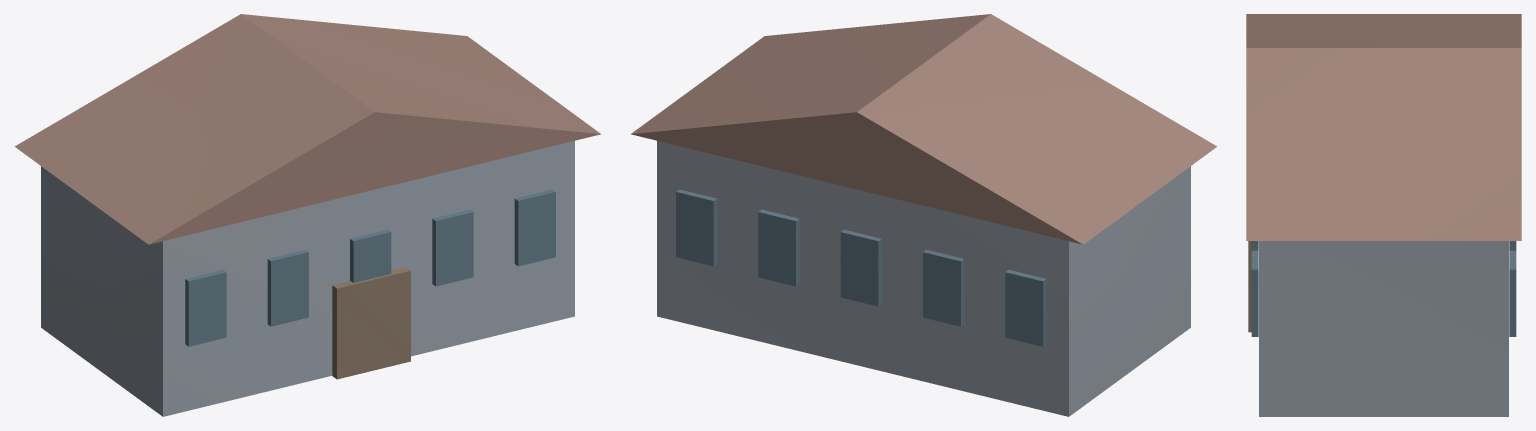
Rendered from greenhouse-03.glb.
3 views of the same model, side by side, from view 1: azimuth 30°, elevation 25°; view 2: azimuth 150°, elevation 25°; view 3: azimuth 270°, elevation 25° (orthographic). The views are drawn at different scales.
Parts seen in each view (by area): view 1: world; view 2: world; view 3: world.
Part boxes in pixels (bbox=[...]): world: bbox=[14, 14, 600, 416]; world: bbox=[631, 14, 1217, 416]; world: bbox=[1246, 14, 1521, 416].
Bounding box in the file's own units: 1.91 × 1.05 × 0.982.
